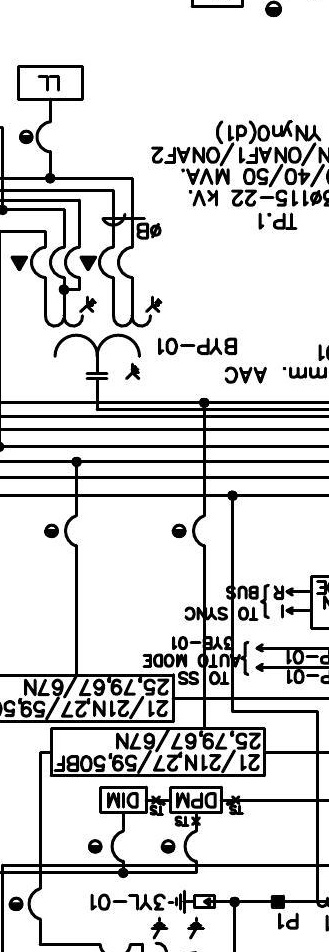115_cvt_3p: (43, 295, 163, 380)
115_la: (167, 889, 216, 915)
DIM: (98, 786, 148, 815)
DPM: (168, 786, 223, 815)
LL: (17, 65, 84, 101)
